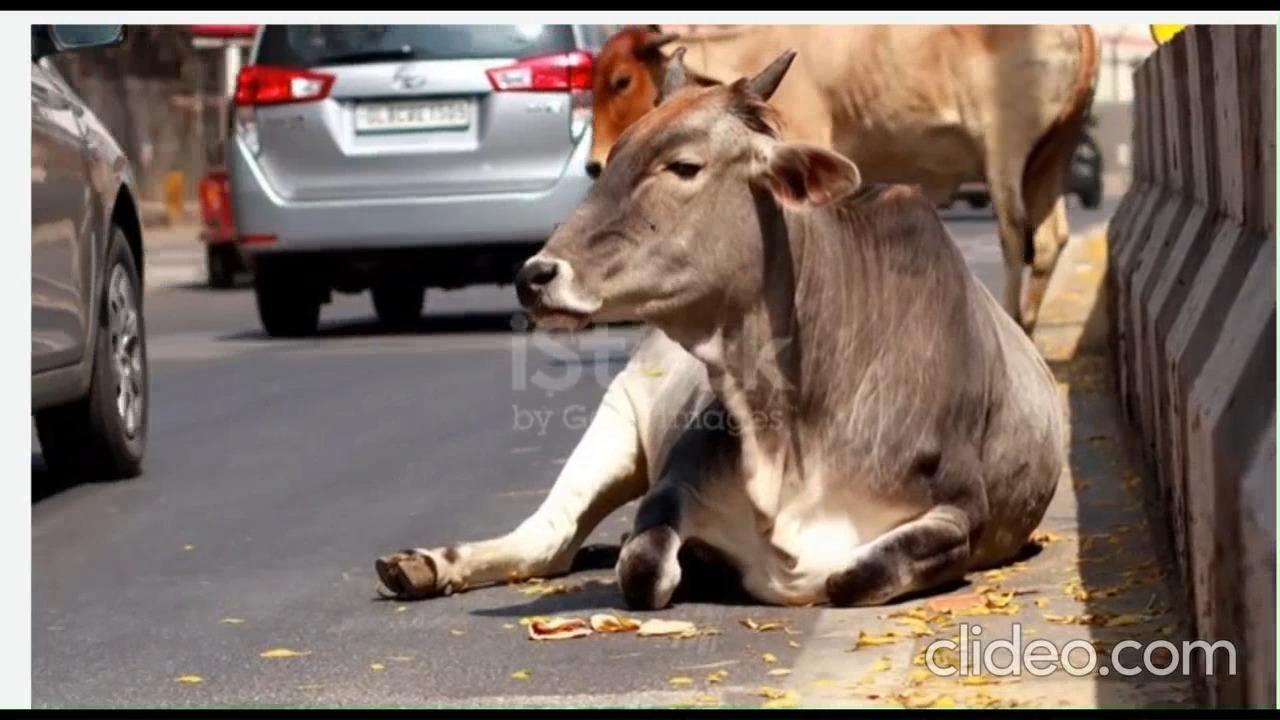Cow: (367, 48, 1070, 596), (581, 20, 1100, 332)
